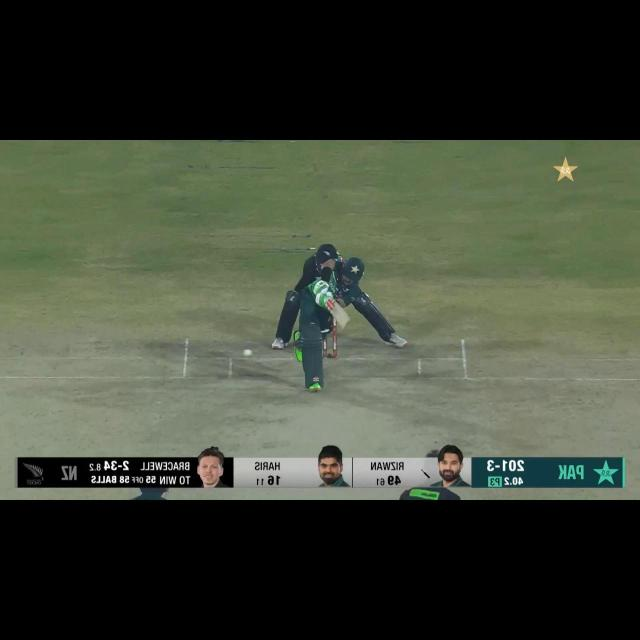bat: (320, 298, 350, 328)
toe: (340, 316, 350, 328)
